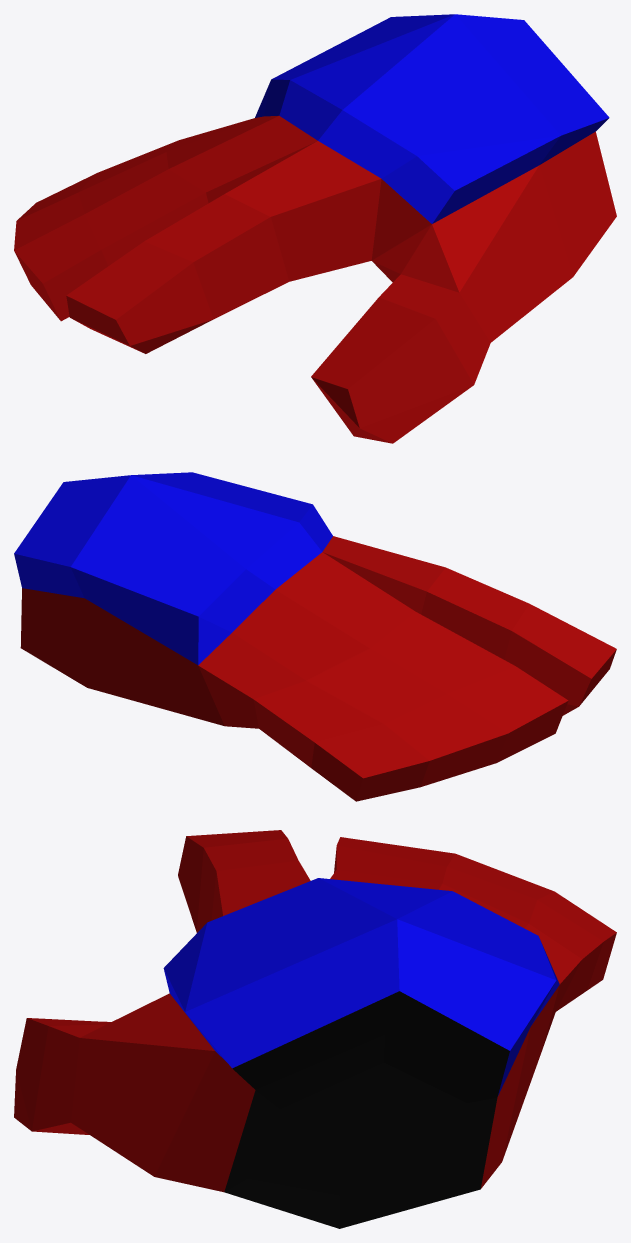
Rendered from Chr_HandRight_Male_Static_11.fbx.
3 views of the same model, one above another, from view 1: azimuth 30°, elevation 25°; view 2: azimuth 150°, elevation 25°; view 3: azimuth 270°, elevation 25° (orthographic). The views are drawn at different scales.
Visible parts, largest first — view 1: Chr_HandRight_Male_11; view 2: Chr_HandRight_Male_11; view 3: Chr_HandRight_Male_11.
Part boxes in pixels (bbox=[...]): Chr_HandRight_Male_11: bbox=[14, 14, 616, 443]; Chr_HandRight_Male_11: bbox=[14, 472, 616, 801]; Chr_HandRight_Male_11: bbox=[14, 830, 616, 1228].
Bounding box in the file's own units: 23.7 × 12.02 × 18.8.
